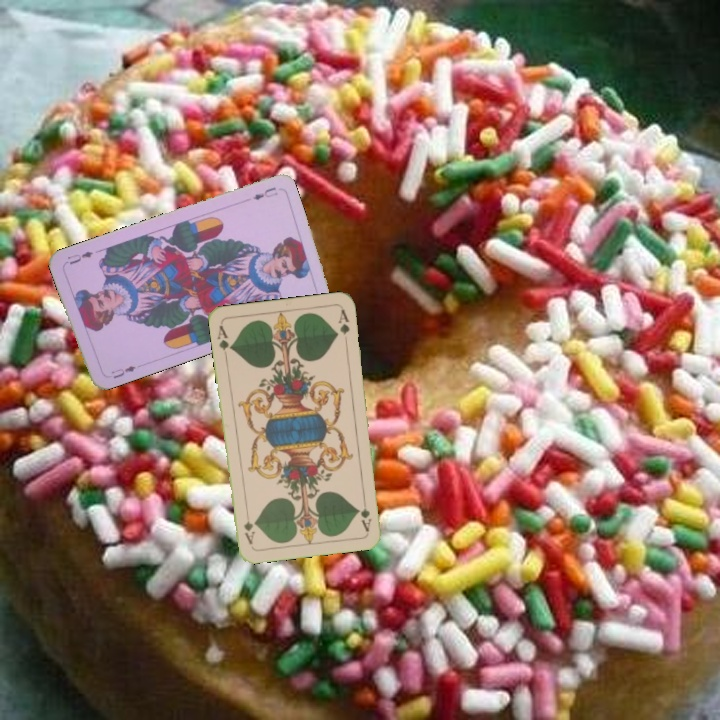EU: (107, 361, 138, 381), (249, 183, 280, 202)
GA: (213, 321, 234, 361), (356, 493, 374, 534)
